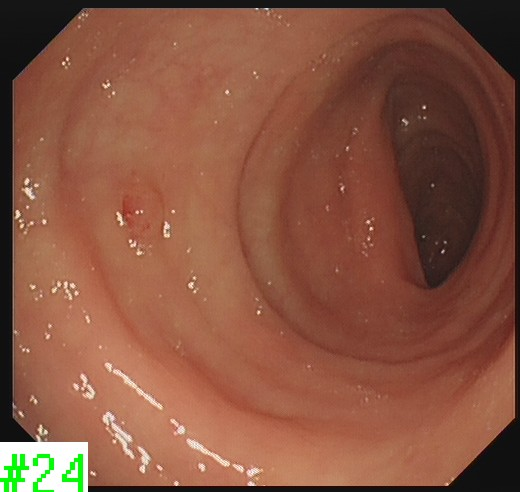adenoma: (119, 181, 166, 246)
